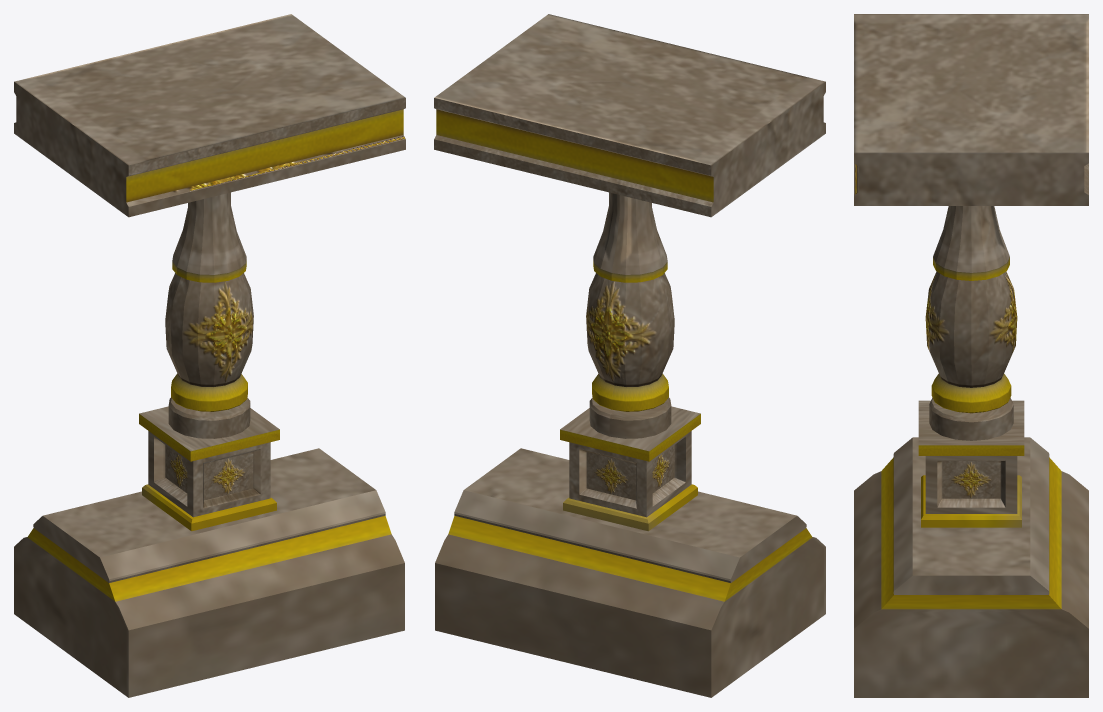
Rendered from fencePillar.fbx.
The picture shows the model from 3 angles, left to right: view 1: azimuth 30°, elevation 25°; view 2: azimuth 150°, elevation 25°; view 3: azimuth 270°, elevation 25°; orthographic projection. The views are drawn at different scales.
Visible parts, largest first — view 1: fence16; view 2: fence16; view 3: fence16.
Boxes of the visible parts, x1,y1,x2,y2 form: fence16: (14, 14, 405, 697); fence16: (434, 14, 825, 697); fence16: (854, 14, 1088, 697).
Bounding box in the file's own units: 69.9 × 128 × 50.
1 material, 1 textured.
